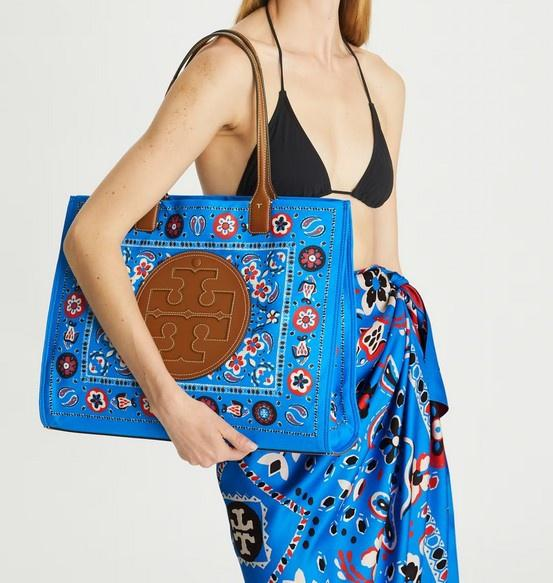TORY-BURCH: (135, 251, 251, 379)
